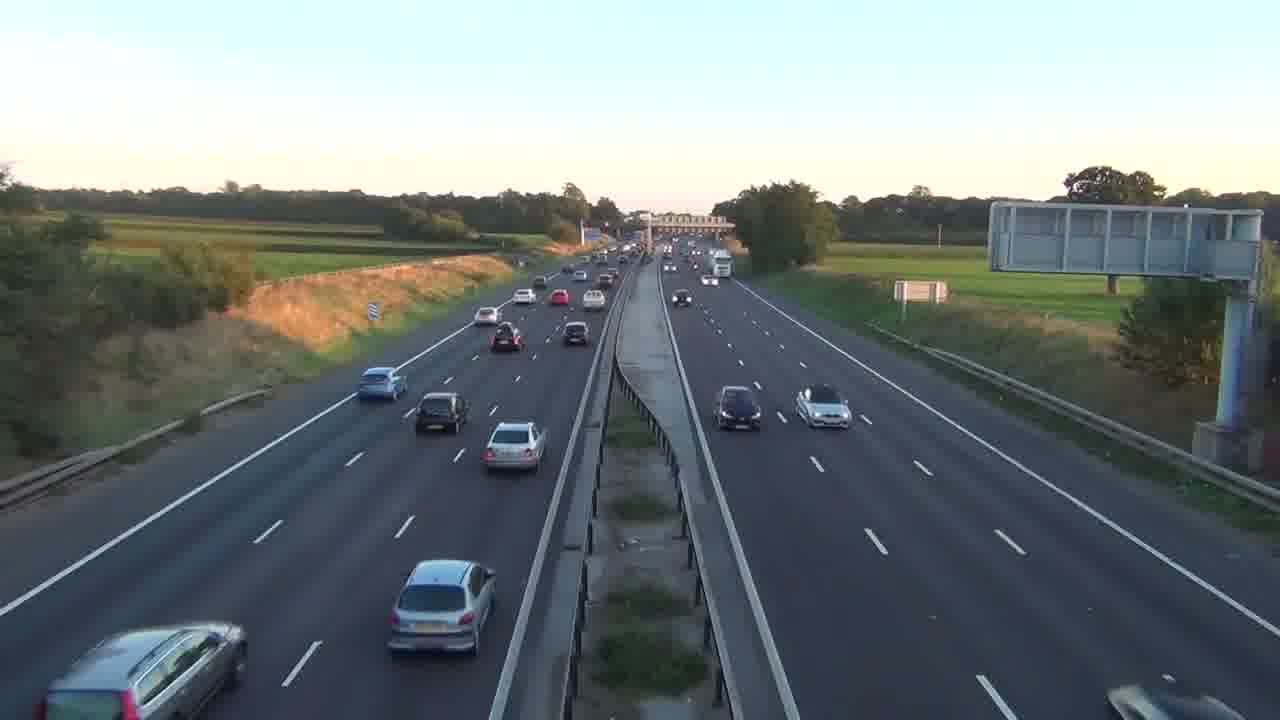car: (32, 620, 249, 719), (386, 558, 499, 656), (1105, 680, 1247, 720), (480, 420, 549, 473), (795, 383, 852, 431), (415, 390, 469, 433), (714, 384, 763, 431), (358, 366, 406, 402), (562, 320, 591, 346), (581, 287, 607, 310)
